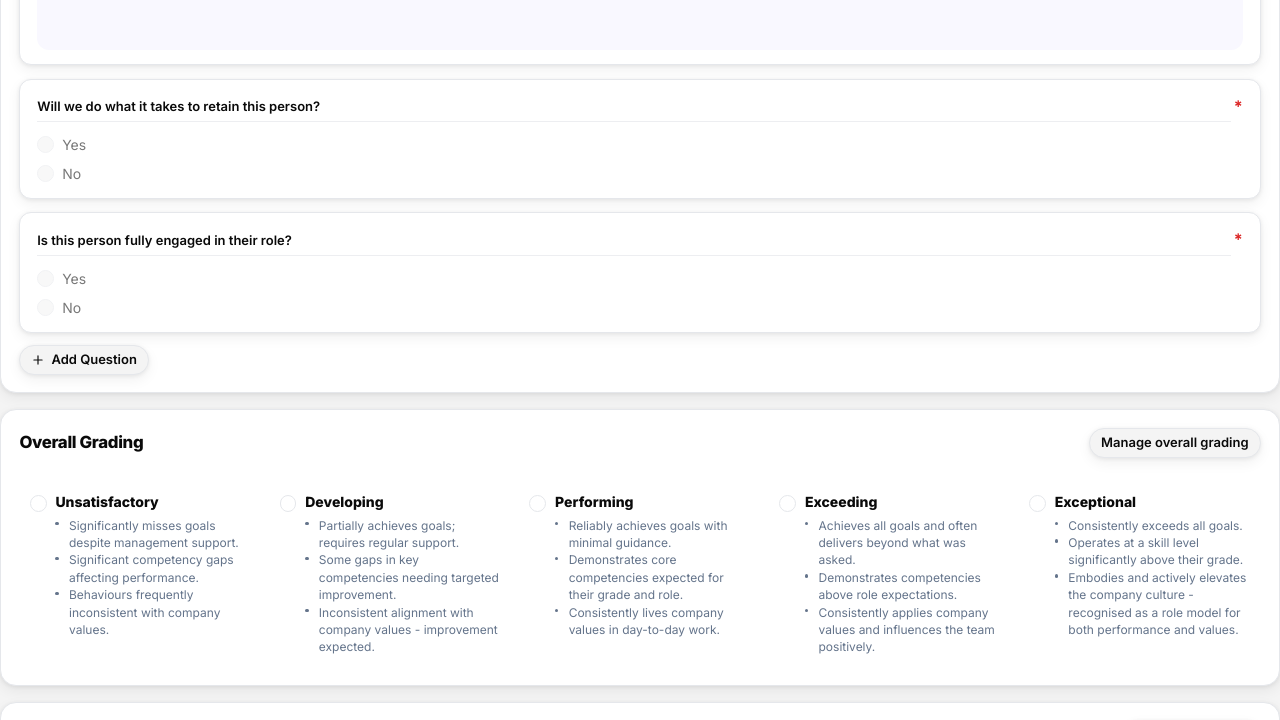
Test: ScorecardFormEditor › only offers question types from Add Question
(page scrolled)
Step 1. Click the button "Add Question" → [84, 360], box [19, 344, 149, 374]
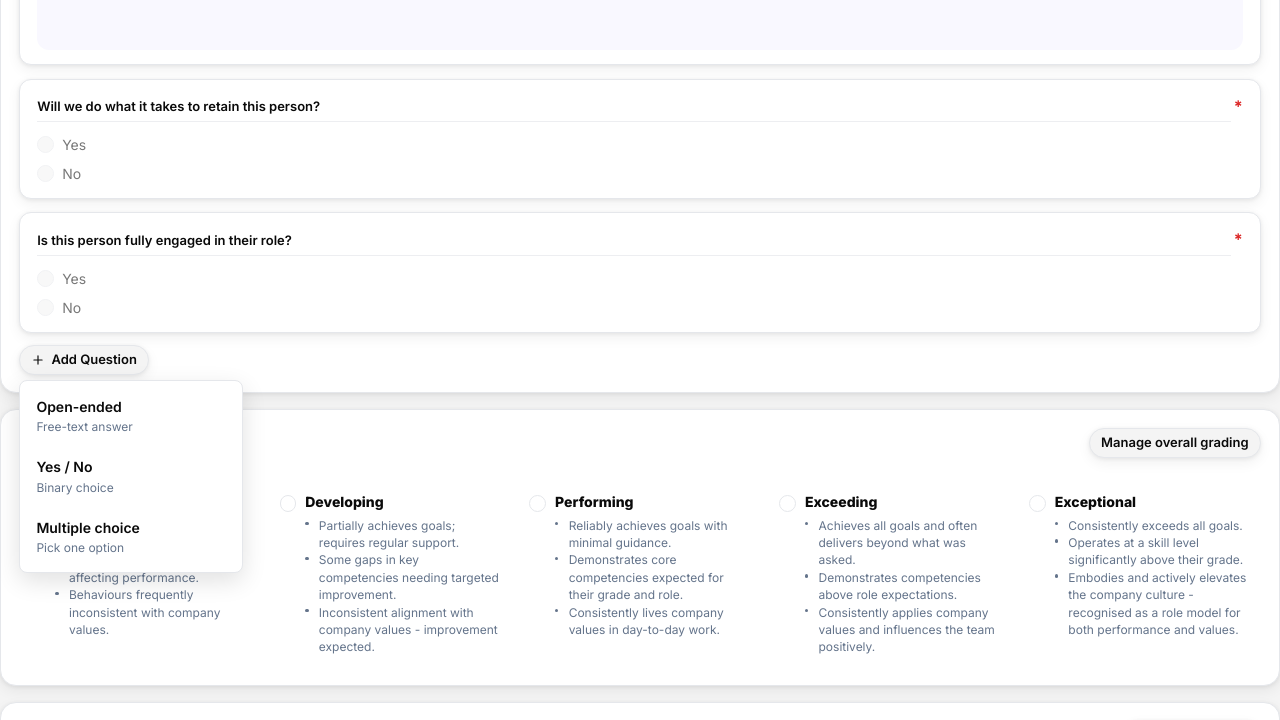
expect the menu item "Open-ended Free-text answer" is shown: met, box [26, 387, 237, 445]
expect the menu item "Yes / No Binary choice" is shown: met, box [26, 447, 237, 506]
expect the menu item "Multiple choice Pick one option" is shown: met, box [26, 508, 237, 566]
